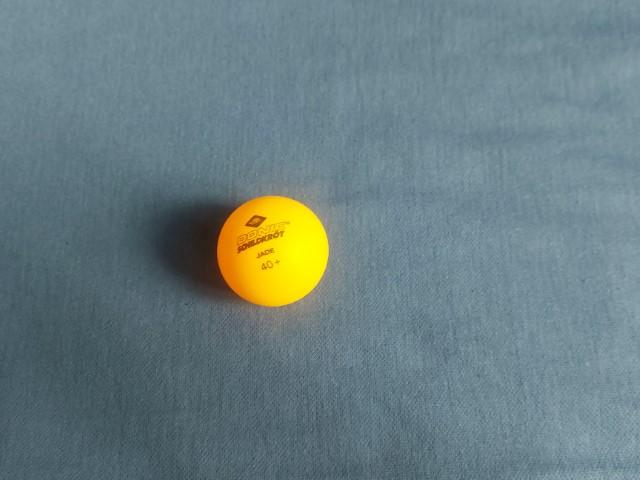oball: (305, 170, 429, 291)
